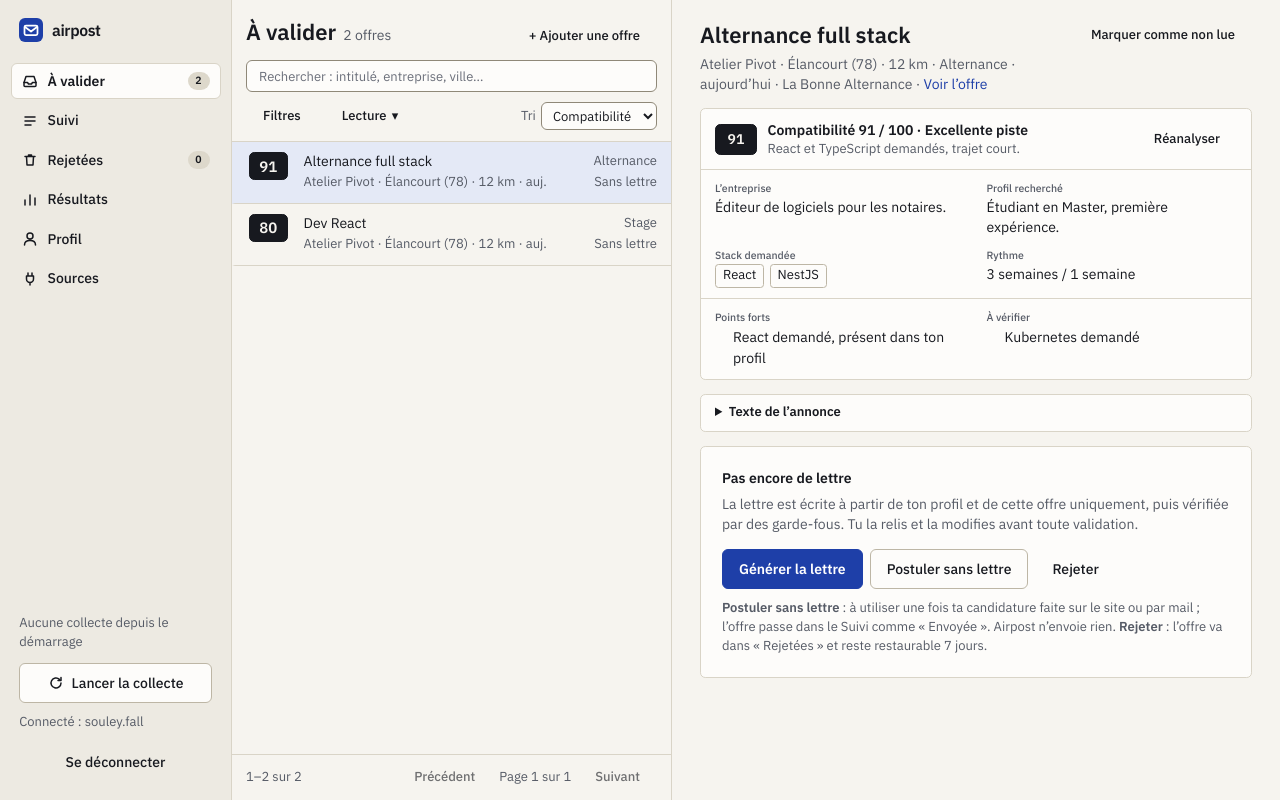
it: écran À valider › filtres, recherche, tri › propose de réinitialiser quand aucun résultat ne correspond
The width and height of the screenshot is (1280, 800).
Type "zzz" into the search field named "Rechercher une offre" at (452, 76), box [246,60,657,92]
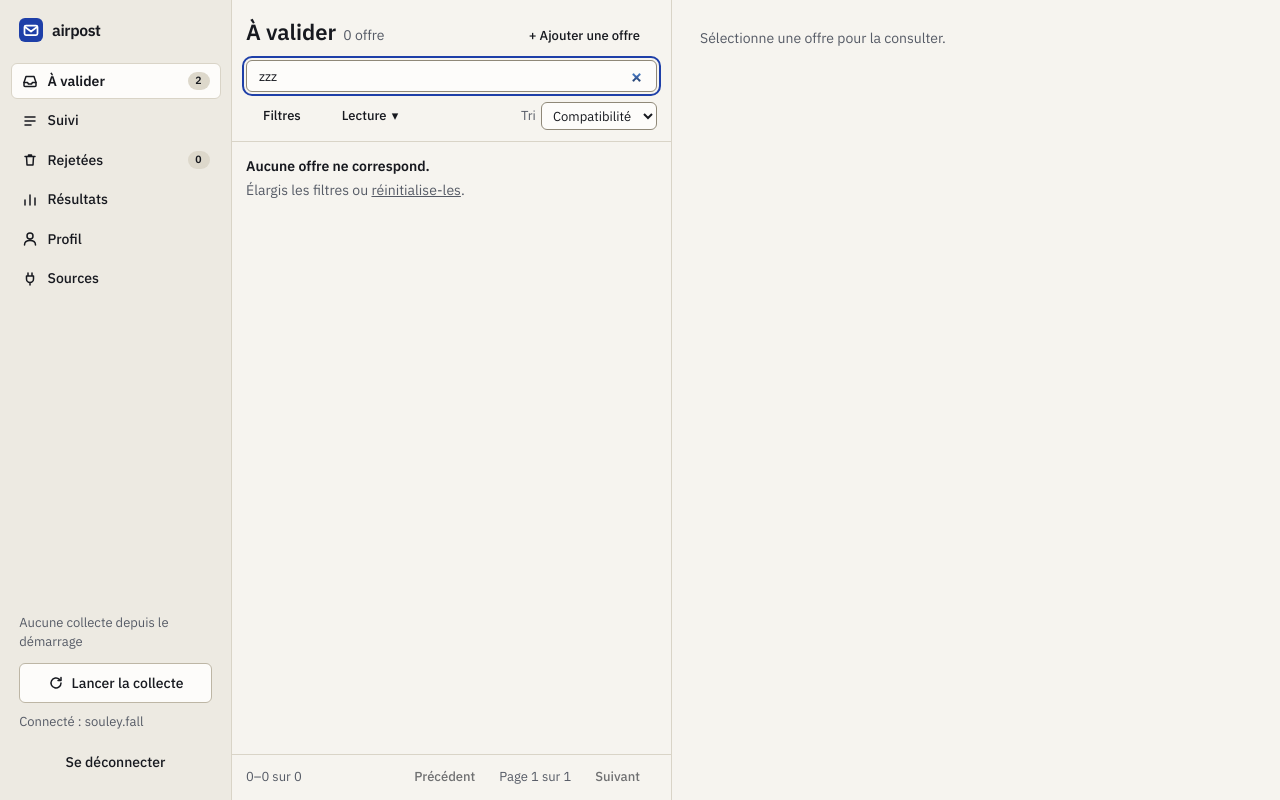
Expected: the text "Aucune offre ne correspond." is shown, [246,157,430,175]
Click the button "réinitialise-les" at (416, 190), box [372,180,461,200]
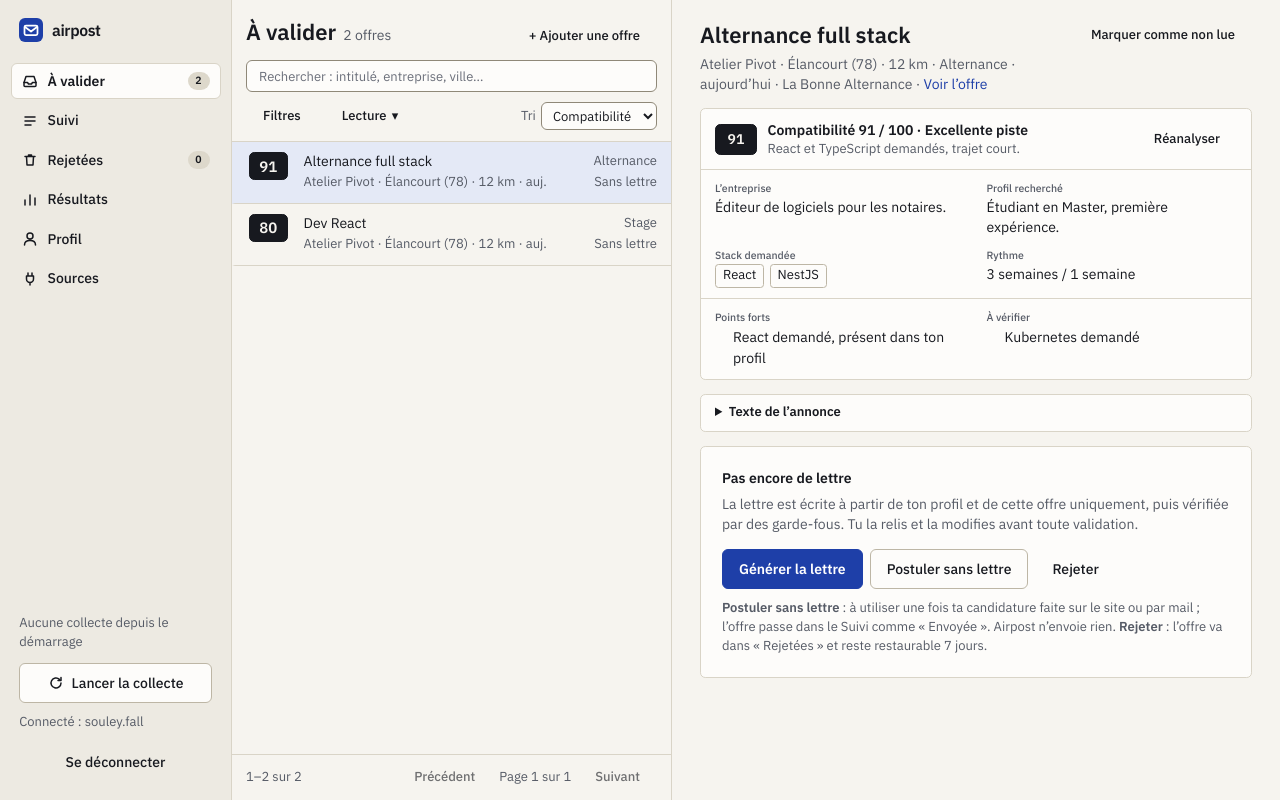
Expected: the list that starts with "Alternance full stack" is shown, [232,142,671,266]
Expected: the search field named "Rechercher une offre" is empty, [246,60,657,92]
